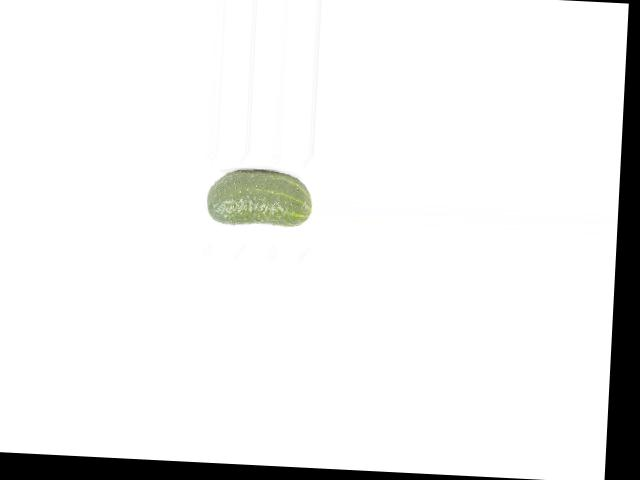cucumber: (205, 166, 313, 227)
